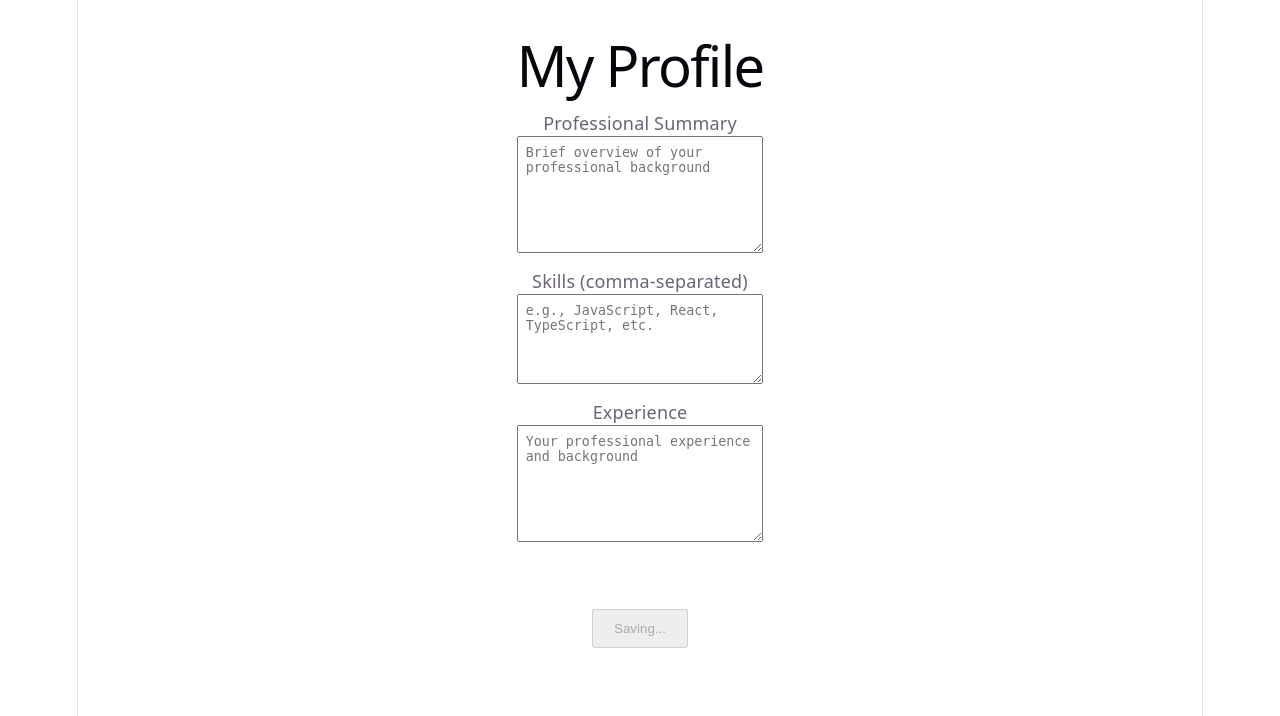
page action feedback › uses a toast for profile-save success and an inline error for failure
Type "Summary" into the text box labelled "Professional Summary" at (640, 195), box x1=517 y1=136 x2=763 y2=253
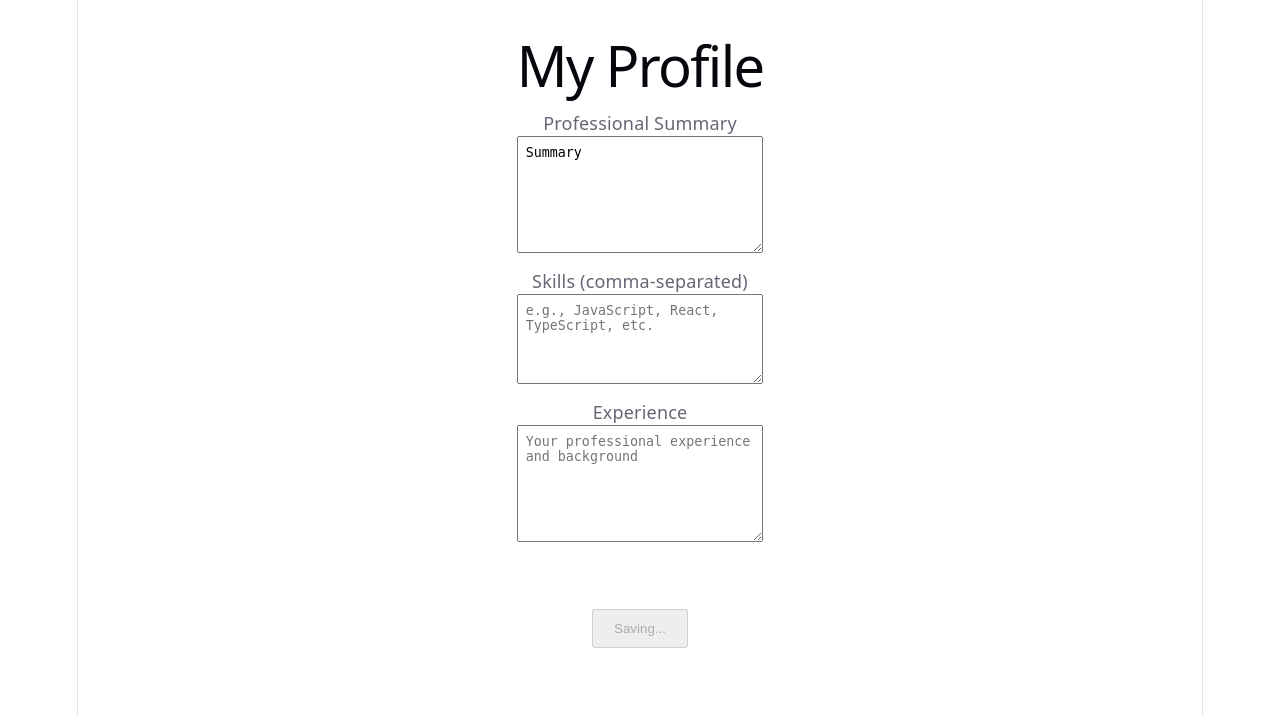
Type "React" into the text box labelled "Skills (comma-separated)" at (640, 339), box x1=517 y1=294 x2=763 y2=384
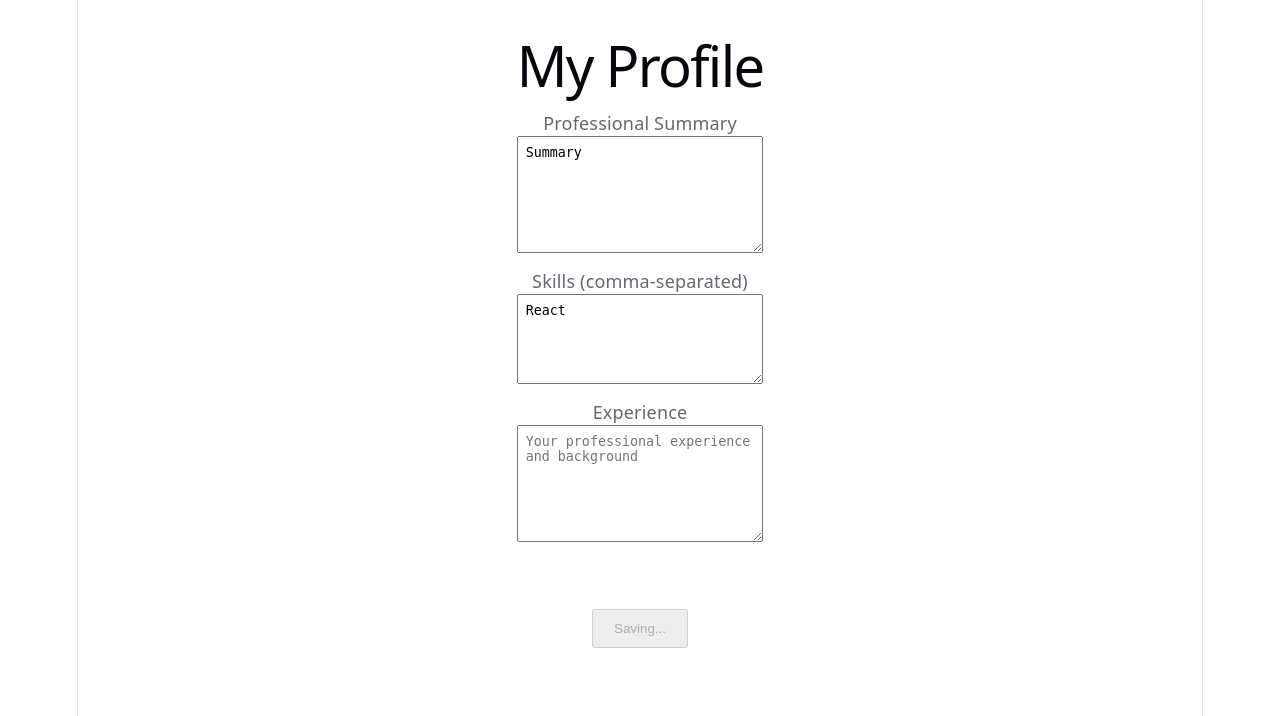
Type "Engineer" into the text box labelled "Experience" at (640, 484), box x1=517 y1=425 x2=763 y2=542
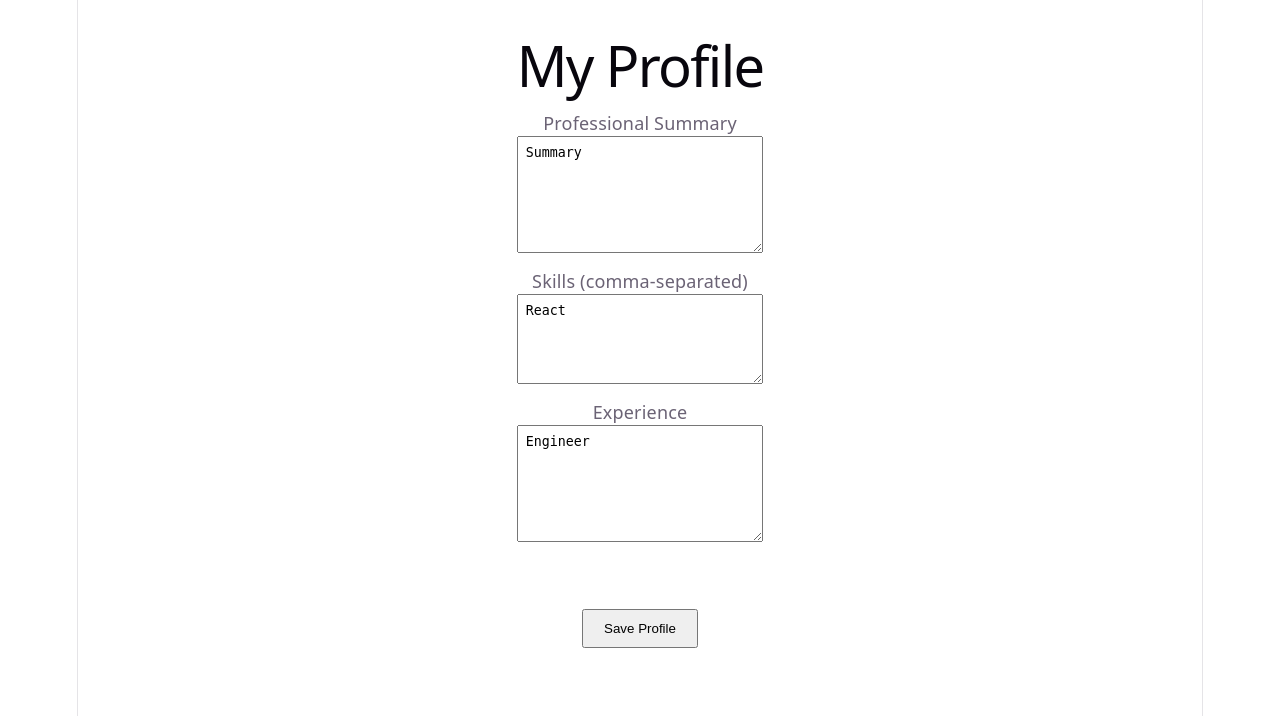
Click the button "Save Profile" at (640, 629), box x1=582 y1=609 x2=698 y2=648
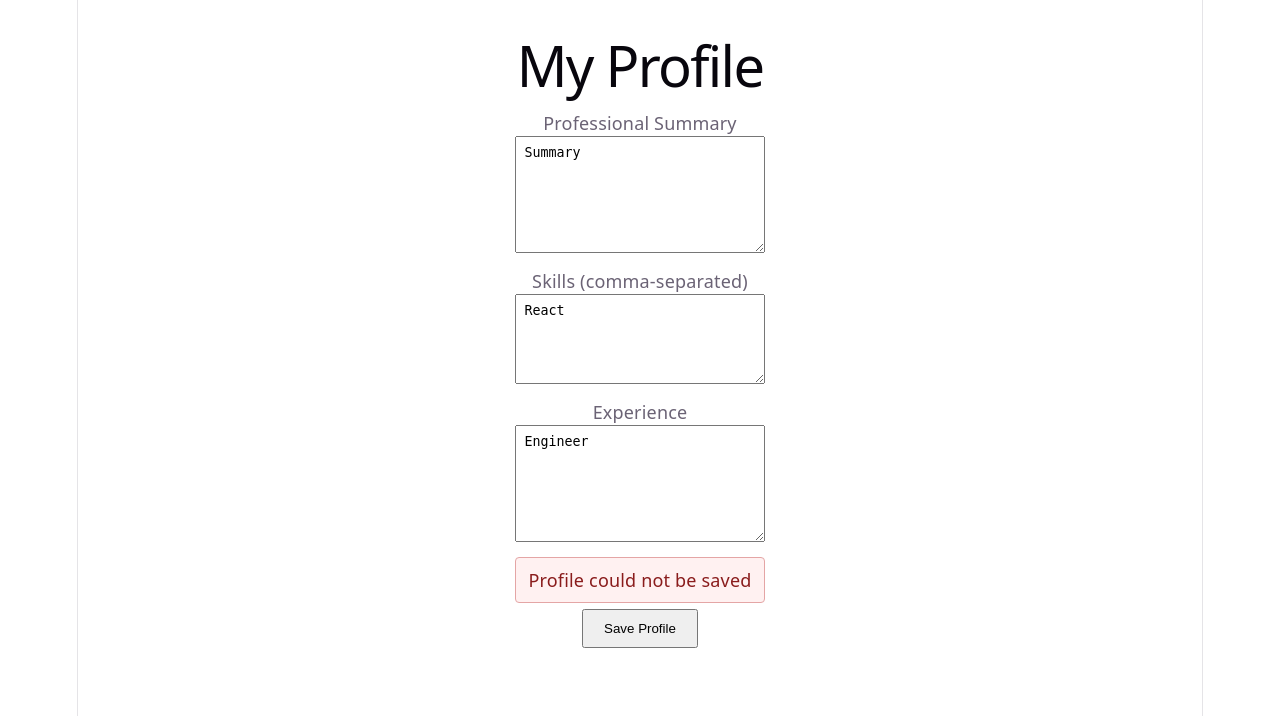
Check: the message reads "Profile could not be saved", box x1=528 y1=568 x2=752 y2=592
Click the button "Save Profile" at (640, 629), box x1=582 y1=610 x2=698 y2=648
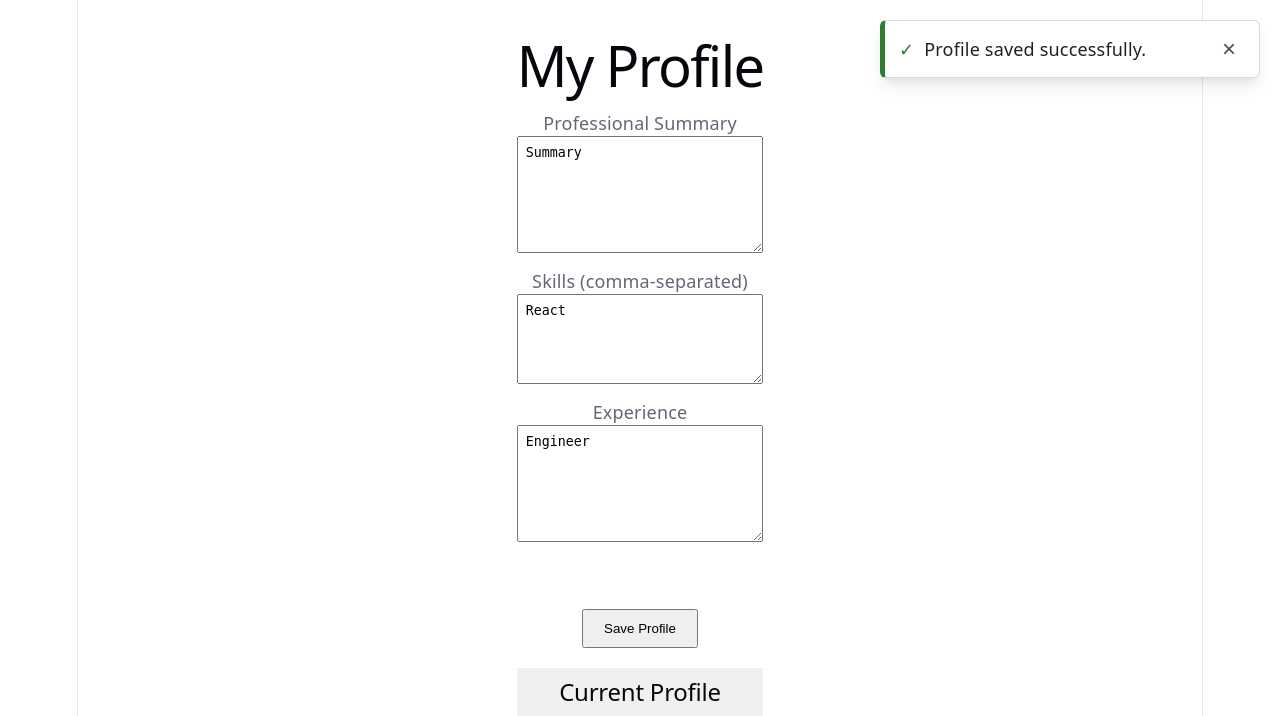
Check: the text "Profile saved successfully." is shown, box x1=924 y1=37 x2=1146 y2=61
Check: the message "Profile could not be saved" is gone
